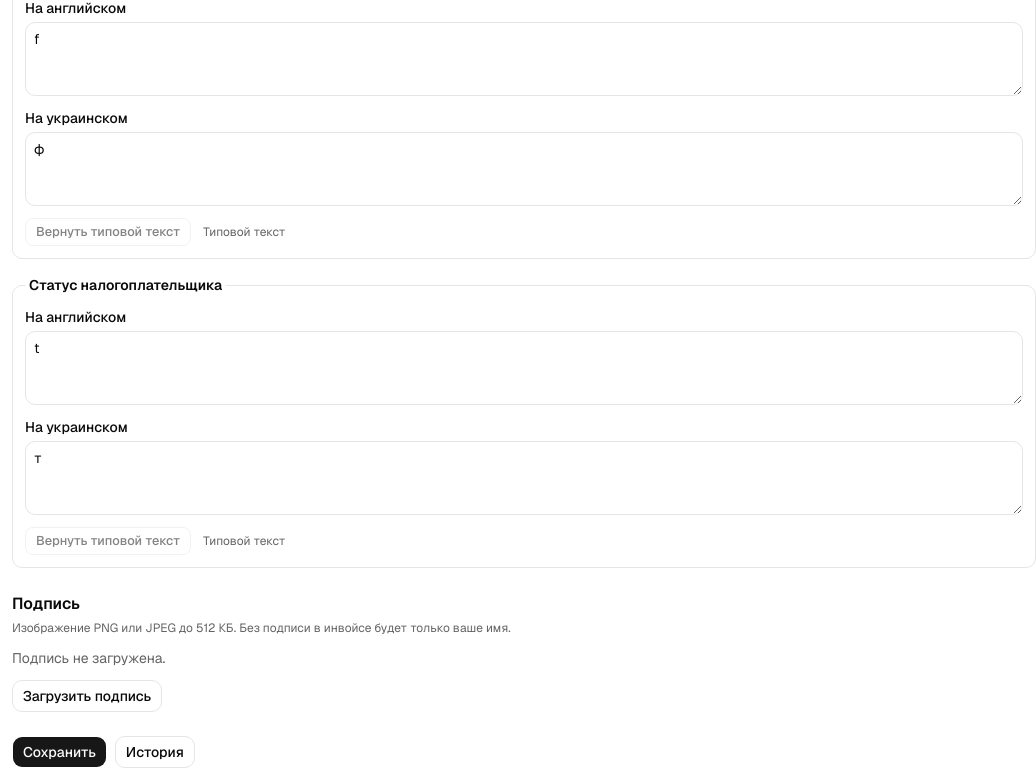
Scenario: InvoicingForm network failure › says so in ru when the save never reaches the api
(page scrolled)
Click the button "Сохранить" at (59, 752), box [12,736,107,767]
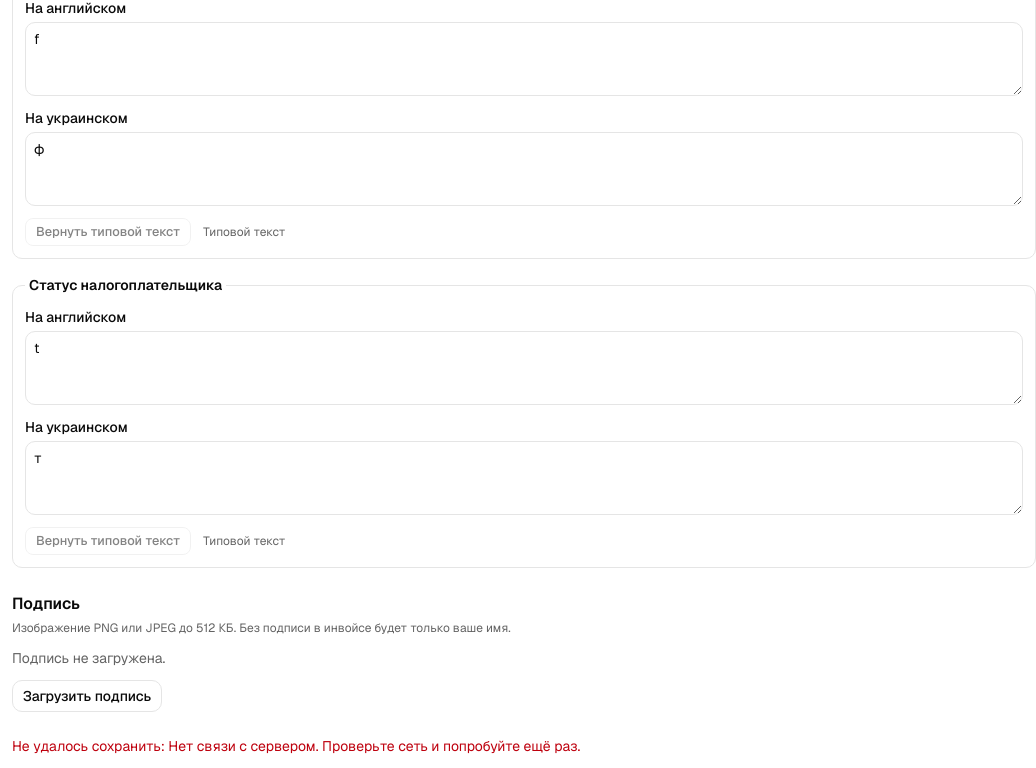
Now the text "Не удалось сохранить: Нет связи с сервером. Проверьте сеть и попробуйте ещё раз." is shown, box [12,737,580,755]
